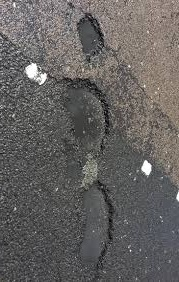pothole: (74, 170, 122, 277), (65, 80, 108, 161), (79, 9, 105, 66)
